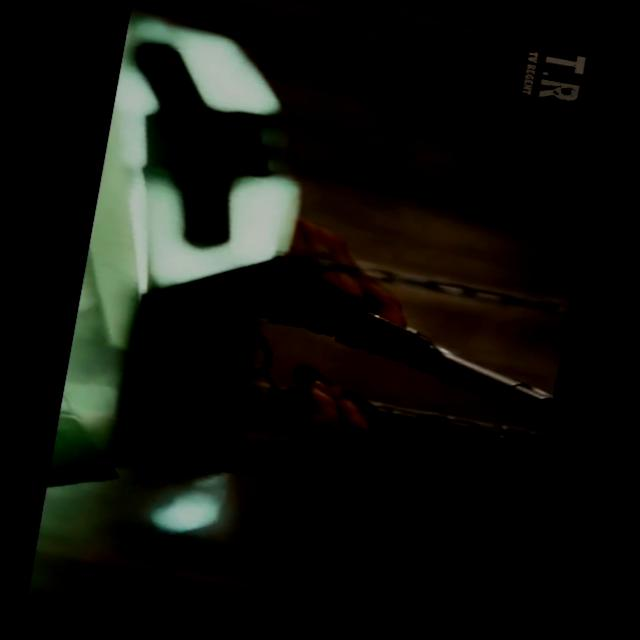handgun: (176, 364, 590, 511), (268, 270, 579, 435)
